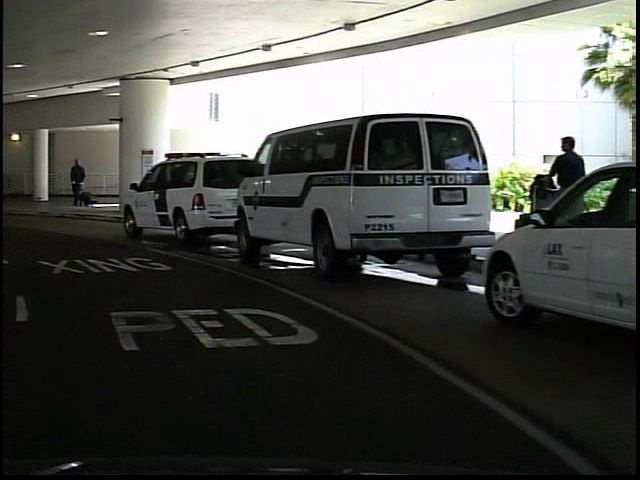person: (543, 133, 587, 263), (62, 155, 88, 214)
